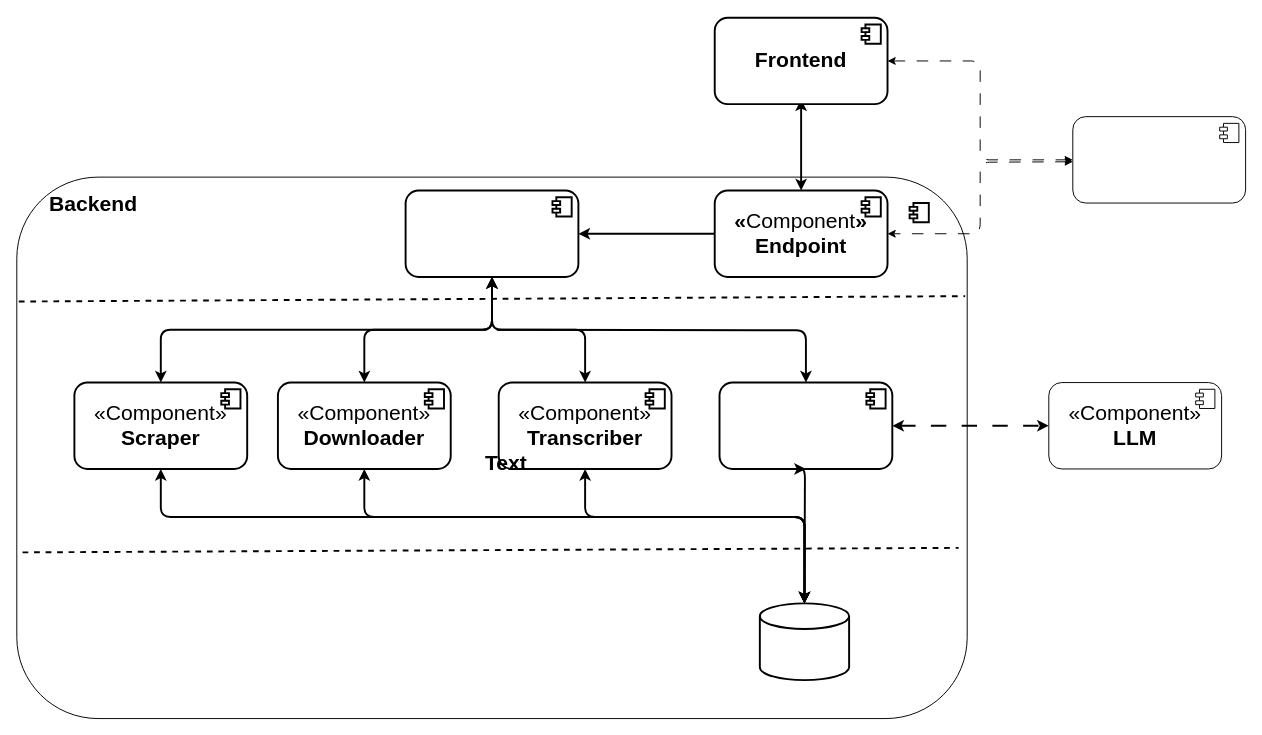
Image size: 1262x735. Some labels were removed from this diagram. Here are the shapes that lost their labels. From the top down, the box of each, then its label:
(1072, 116, 1246, 203): JSON WEB TOKEN
(404, 189, 579, 277): « Component » Router
(718, 381, 893, 469): «Component» Generator
